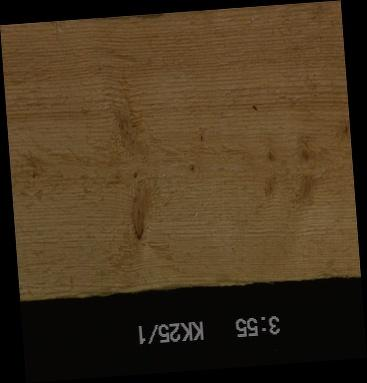small_knot: (333, 120, 349, 142), (262, 147, 279, 167), (194, 129, 207, 146), (26, 167, 39, 183), (186, 161, 198, 176)
